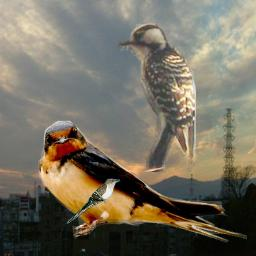Cuckoo: (65, 178, 121, 226)
Swallow: (36, 120, 247, 249)
Woodpecker: (116, 23, 196, 172)
